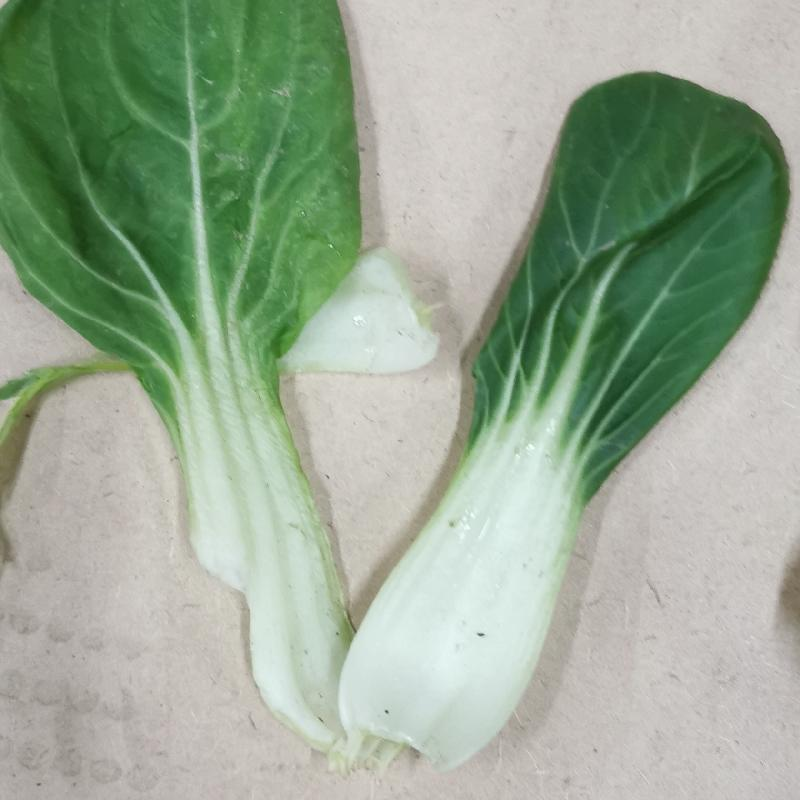green vegatable: (0, 0, 780, 765)
